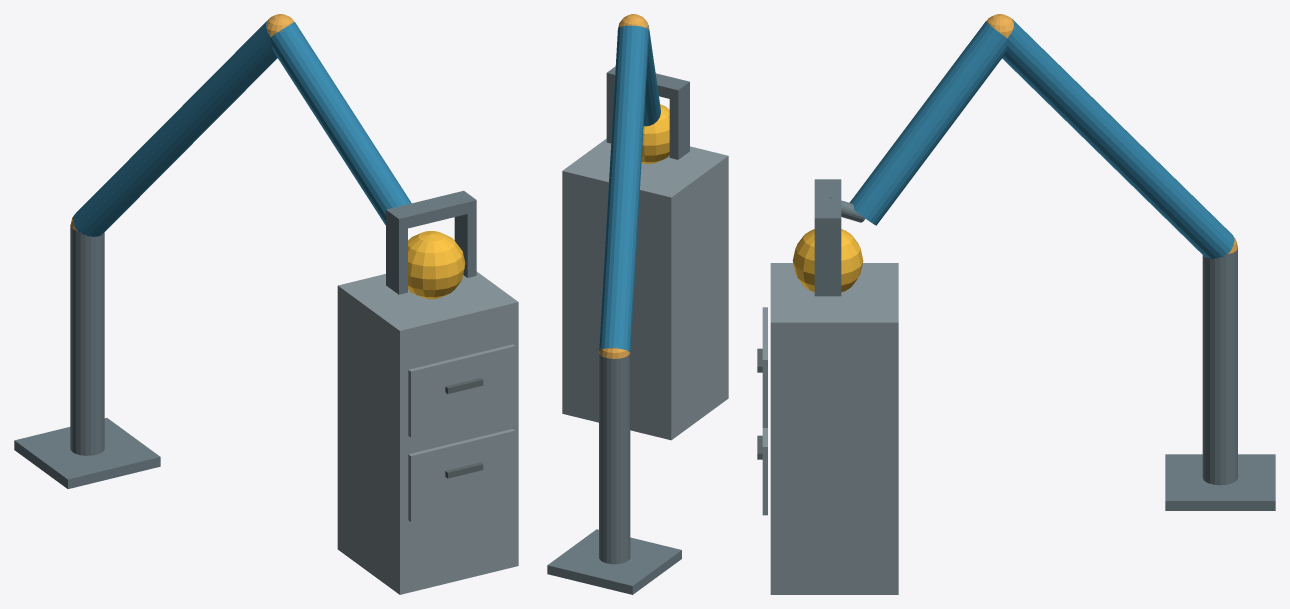
3 views of the same model, side by side, from view 1: azimuth 30°, elevation 25°; view 2: azimuth 150°, elevation 25°; view 3: azimuth 270°, elevation 25° (orthographic). The views are drawn at different scales.
Parts seen in each view (by area): view 1: cabinet_1 body, moving link 1, fixed post, moving link 2, cabinet_1 drawer front, cabinet_1 drawer front.001, pedestal, ball ball_1, gripper bridge, gripper finger -1, gripper finger 1; view 2: cabinet_1 body, moving link 1, fixed post, pedestal, gripper finger -1, ball ball_1, moving link 2, gripper bridge, gripper finger 1, joint 2, joint 1; view 3: cabinet_1 body, moving link 1, fixed post, moving link 2, pedestal, ball ball_1, gripper finger 1, gripper bridge, cabinet_1 drawer front.001.
Part boxes in pixels (x1=…): cabinet_1 body: x1=337, y1=271, x2=518, y2=594; moving link 1: x1=73, y1=20, x2=277, y2=236; fixed post: x1=70, y1=224, x2=104, y2=455; moving link 2: x1=271, y1=22, x2=411, y2=225; cabinet_1 drawer front: x1=408, y1=429, x2=515, y2=521; cabinet_1 drawer front.001: x1=408, y1=344, x2=515, y2=437; pedestal: x1=14, y1=418, x2=160, y2=488; ball ball_1: x1=408, y1=231, x2=465, y2=299; gripper bridge: x1=386, y1=190, x2=476, y2=230; gripper finger -1: x1=386, y1=221, x2=407, y2=294; gripper finger 1: x1=454, y1=212, x2=476, y2=277; cabinet_1 body: x1=562, y1=138, x2=728, y2=440; moving link 1: x1=599, y1=25, x2=649, y2=352; fixed post: x1=599, y1=352, x2=630, y2=564; pedestal: x1=547, y1=529, x2=681, y2=594; gripper finger -1: x1=669, y1=93, x2=689, y2=159; ball ball_1: x1=641, y1=104, x2=669, y2=163; moving link 2: x1=643, y1=24, x2=660, y2=126; gripper bridge: x1=606, y1=66, x2=689, y2=100; gripper finger 1: x1=606, y1=83, x2=614, y2=143; joint 2: x1=618, y1=14, x2=648, y2=29; joint 1: x1=599, y1=346, x2=629, y2=359; cabinet_1 body: x1=770, y1=263, x2=898, y2=594; moving link 1: x1=1002, y1=19, x2=1234, y2=258; fixed post: x1=1202, y1=248, x2=1237, y2=485; moving link 2: x1=849, y1=21, x2=1007, y2=225; pedestal: x1=1165, y1=454, x2=1275, y2=510; ball ball_1: x1=792, y1=229, x2=863, y2=292; gripper finger 1: x1=814, y1=230, x2=841, y2=296; gripper bridge: x1=814, y1=179, x2=841, y2=230; cabinet_1 drawer front.001: x1=762, y1=307, x2=767, y2=427.
Bounding box in the file's own units: 0.6992 × 1.29 × 1.17.
